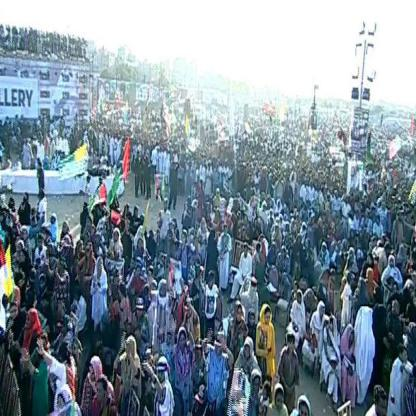face: (58, 399, 68, 416), (378, 399, 388, 416), (158, 367, 166, 383), (98, 386, 106, 402), (277, 395, 284, 410), (90, 365, 97, 380), (217, 342, 224, 356), (11, 307, 19, 319), (289, 338, 296, 351), (254, 379, 260, 394), (74, 341, 80, 356), (180, 337, 187, 349), (300, 407, 309, 416), (137, 305, 143, 318), (59, 263, 65, 276), (245, 347, 252, 358), (237, 309, 243, 321), (161, 285, 167, 297), (186, 301, 192, 313), (38, 238, 44, 250), (402, 351, 408, 363), (244, 247, 250, 258), (28, 316, 33, 328), (98, 262, 104, 272), (41, 279, 46, 291), (348, 331, 354, 341), (266, 312, 271, 323), (263, 386, 268, 397), (395, 305, 400, 316), (63, 224, 69, 233), (250, 316, 255, 326), (253, 286, 258, 296), (331, 321, 336, 331), (210, 278, 215, 287), (8, 199, 13, 208), (351, 278, 356, 287), (369, 273, 374, 282), (390, 258, 395, 267), (320, 309, 325, 317), (394, 288, 399, 296), (298, 293, 302, 302), (19, 244, 23, 253), (196, 267, 200, 276), (137, 269, 141, 277), (87, 249, 91, 257), (115, 233, 119, 241), (87, 221, 91, 229), (52, 215, 56, 223), (202, 222, 205, 232), (165, 200, 168, 209), (225, 227, 228, 236), (211, 303, 214, 311), (283, 251, 286, 259), (306, 241, 309, 249), (286, 229, 289, 237), (299, 237, 302, 244), (323, 246, 326, 252)
